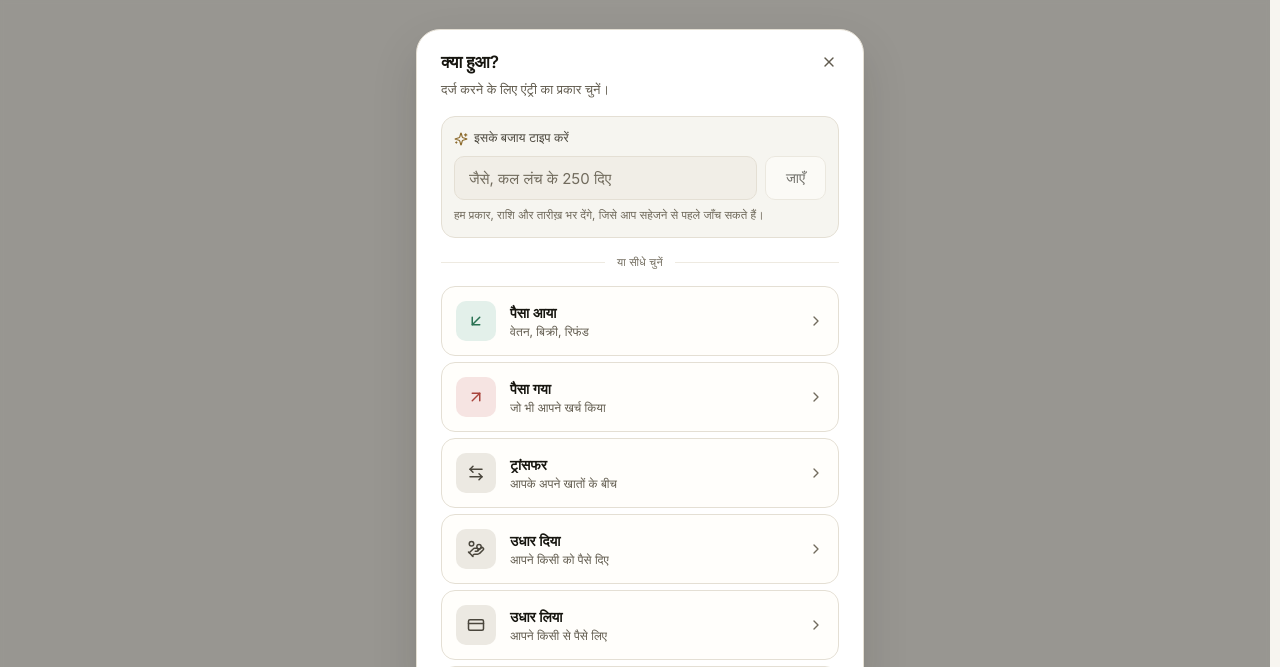
Test case: <QuickAddSheet> typed entry reads accounts and asks about the rest (§Phase 2) › shows the questions in Hindi
Type "Paid 250 for lunch" into the field with id "nl-quick-entry" at [605, 178], box [454, 156, 757, 200]
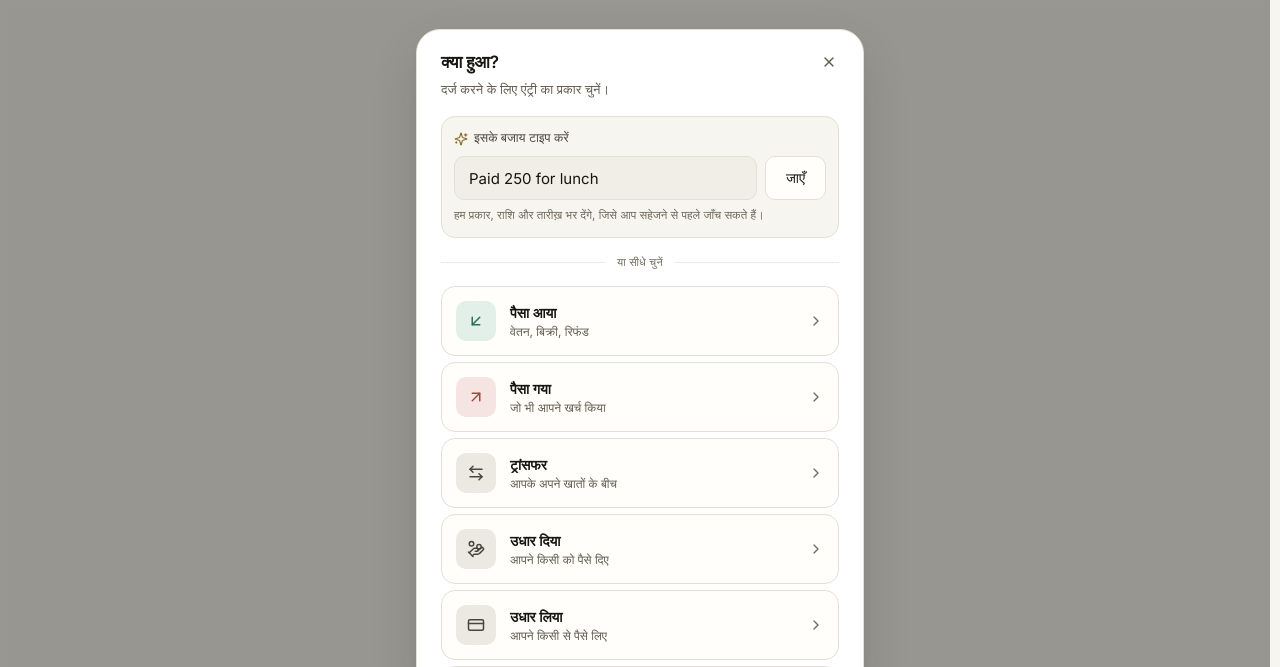
Click the button "जाएँ" at [795, 178], box [765, 156, 826, 200]
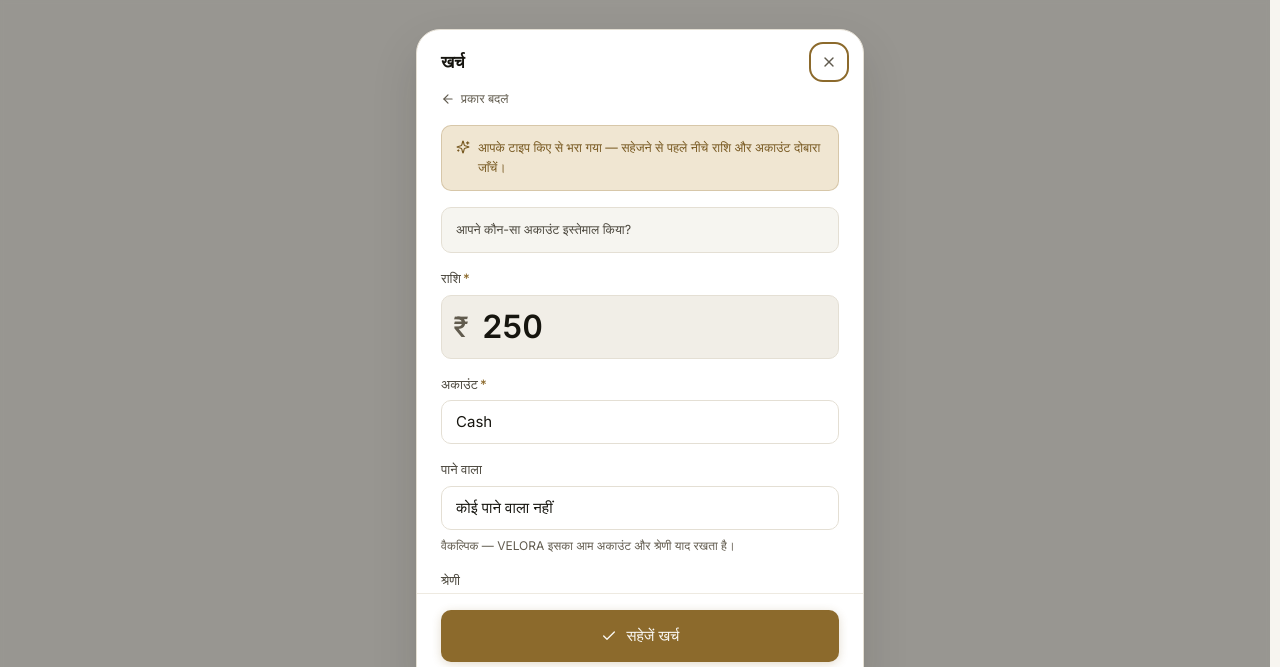
Now the list item "आपने कौन-सा अकाउंट इस्तेमाल किया?" is shown, box [456, 222, 631, 237]
